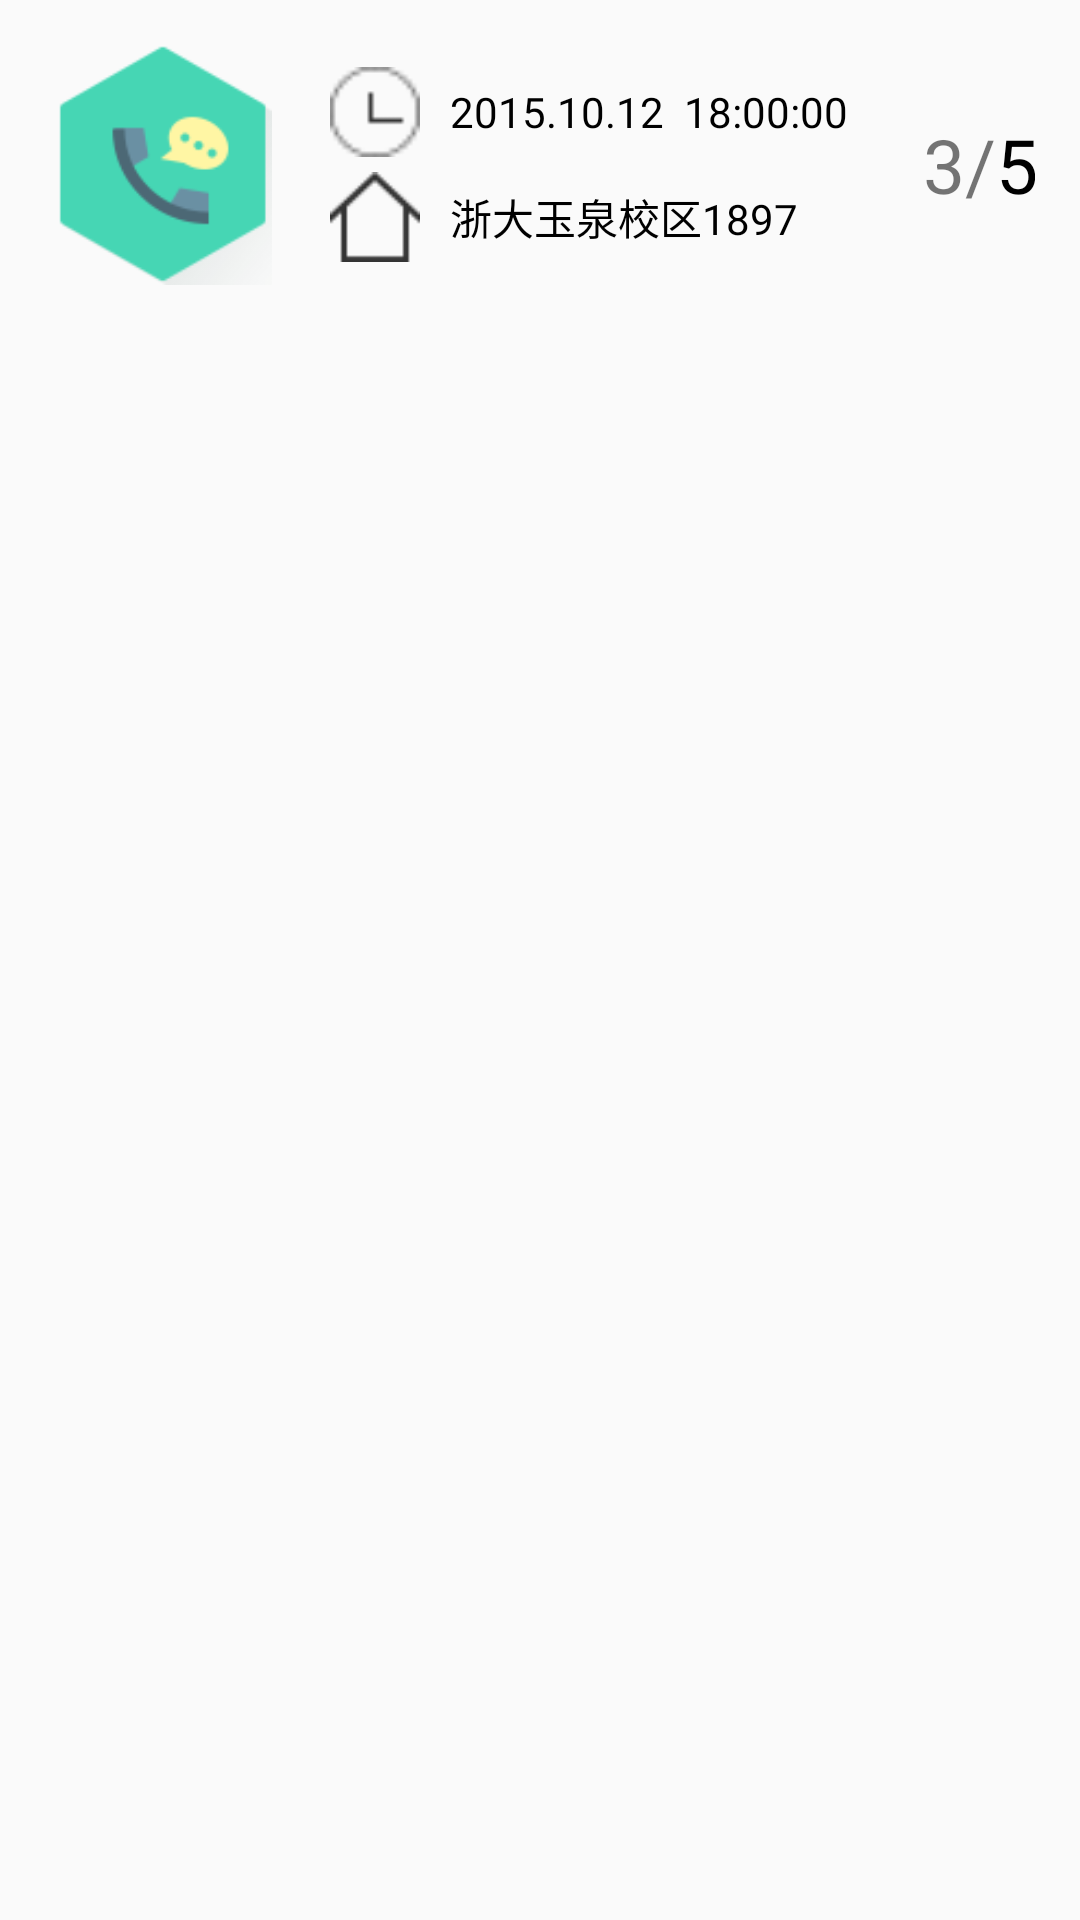

Named icons in this screenshot (1080×1920) and their centers, [x,y]:
house: [375,217]
time: [375,112]
